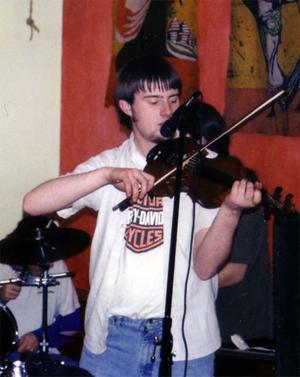person: (23, 57, 262, 377)
